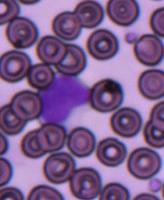M: (38, 74, 90, 125)
